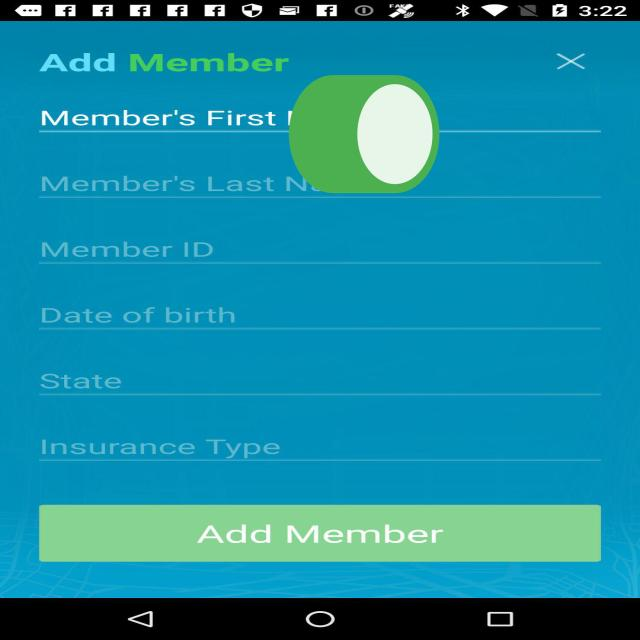social proof: (282, 29, 446, 248)
